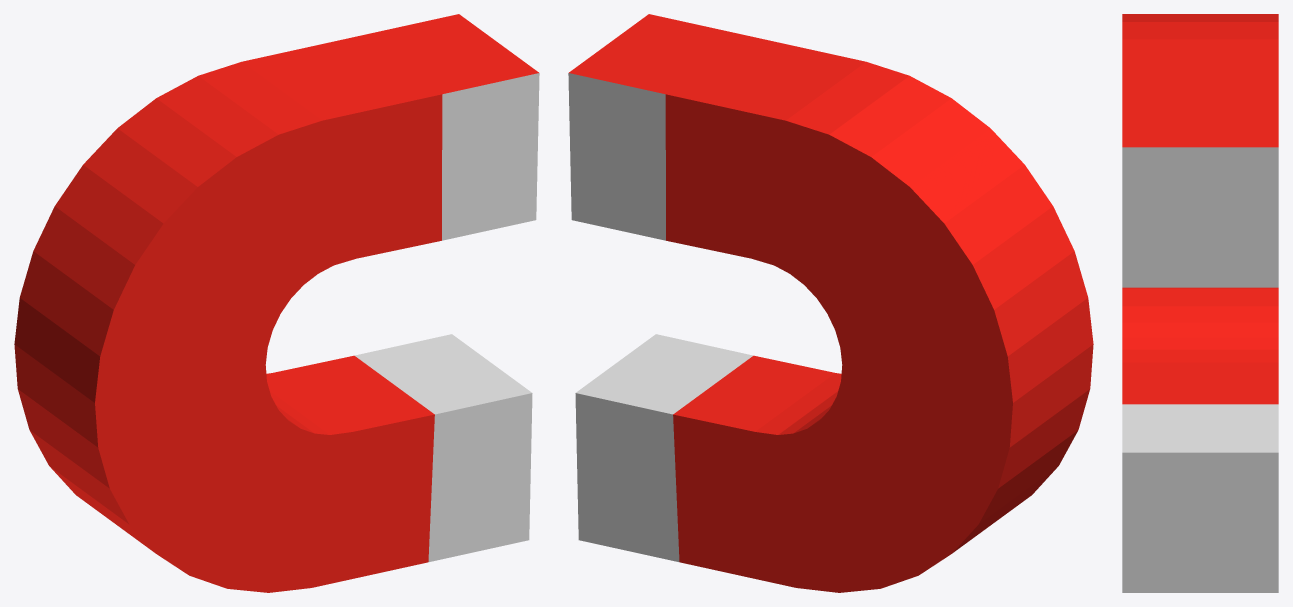
The model's file is MAGNET.fbx.
3 renders of one model, left to right at view 1: azimuth 30°, elevation 25°; view 2: azimuth 150°, elevation 25°; view 3: azimuth 270°, elevation 25°, orthographic. The views are drawn at different scales.
Visible parts, largest first — view 1: Circle; view 2: Circle; view 3: Circle.
Part boxes in pixels (x1,y1,x2,y2): Circle: (14,14,539,592); Circle: (568,14,1093,592); Circle: (1122,14,1278,592).
Size of the model in its own units: 3.73 by 3.77 by 1.17.
